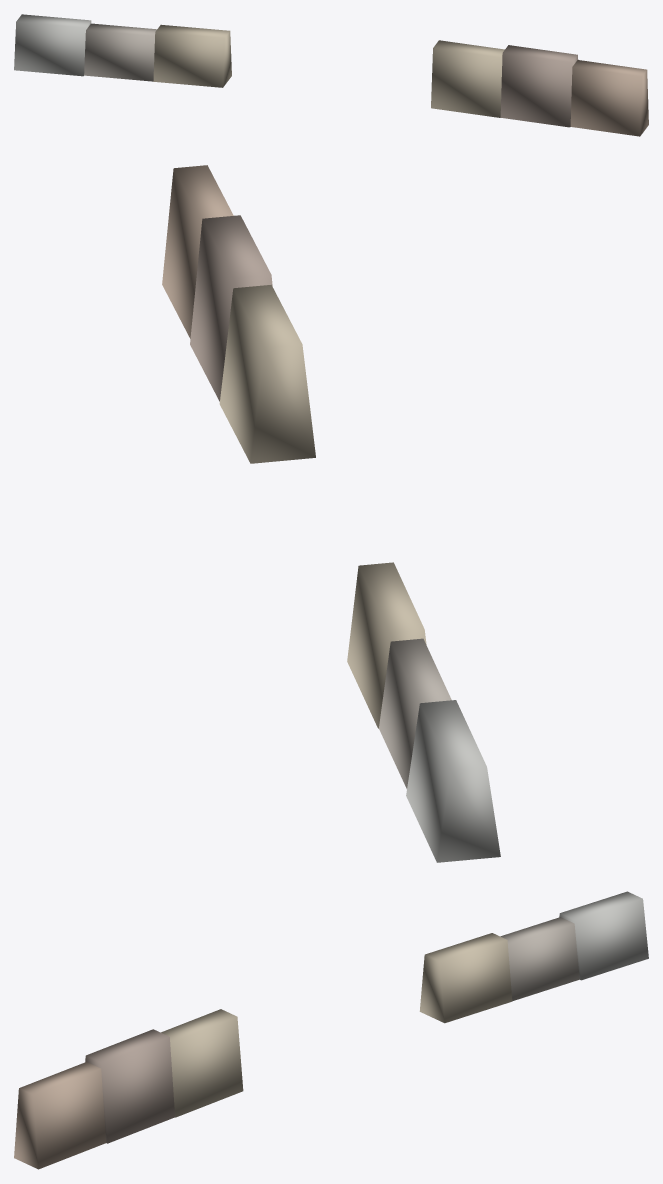
The model's file is farm_-10_-6_collision.glb.
3 views of the same model, one above another, from view 1: azimuth 30°, elevation 25°; view 2: azimuth 150°, elevation 25°; view 3: azimuth 270°, elevation 25° (orthographic). The views are drawn at different scales.
Visible parts, largest first — view 1: geometry_0; view 2: geometry_0; view 3: geometry_0.
Part boxes in pixels (left/top/right/bottom): geometry_0: left=14, top=14, right=648, bottom=136; geometry_0: left=162, top=165, right=500, bottom=862; geometry_0: left=14, top=891, right=648, bottom=1169.
Bounding box in the file's own units: 9.33 × 1.79 × 10.19.
